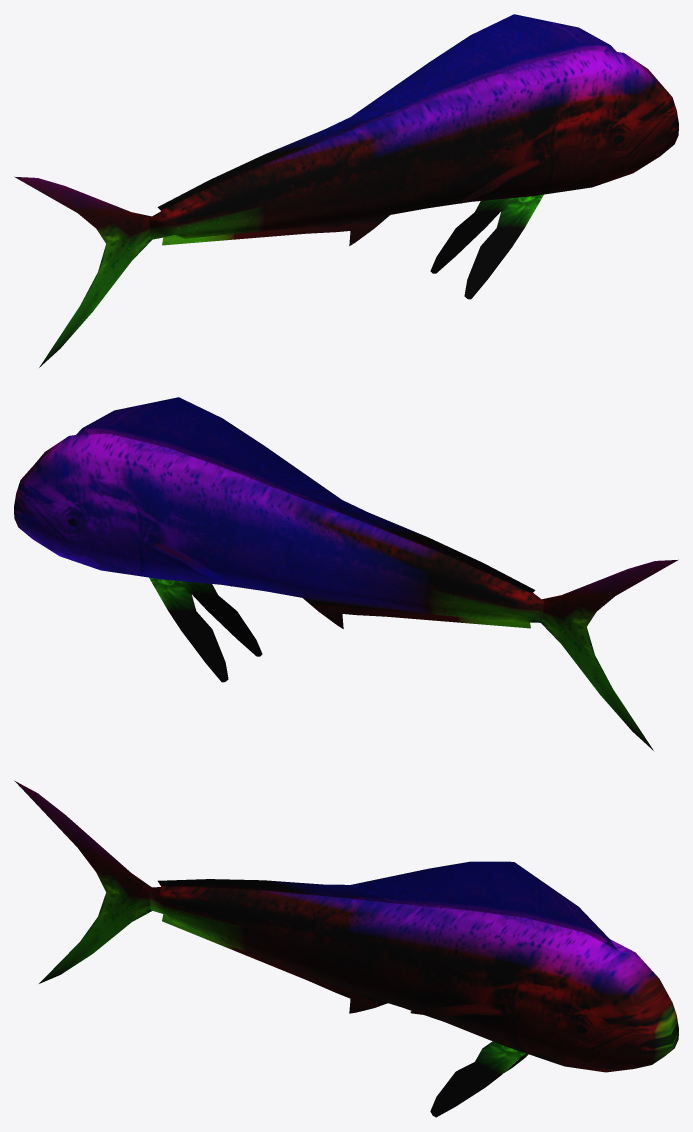
File: mahi_mahi.glb
The picture shows the model from 3 angles, top to bottom: view 1: azimuth 30°, elevation 25°; view 2: azimuth 150°, elevation 25°; view 3: azimuth 330°, elevation 25°; orthographic projection.
Visible parts, largest first — view 1: MahiMahi; view 2: MahiMahi; view 3: MahiMahi.
Boxes of the visible parts, box(x1,y1,x2,y2) form: MahiMahi: box(14, 14, 678, 367); MahiMahi: box(14, 397, 678, 750); MahiMahi: box(14, 780, 678, 1117).
Size of the model in its own units: 1 by 0.3734 by 0.1315.
Materials: 1 (1 with a texture image).
